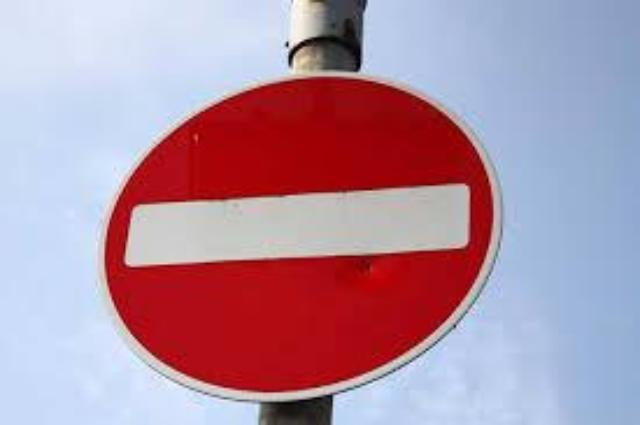B2: (93, 68, 507, 402)
